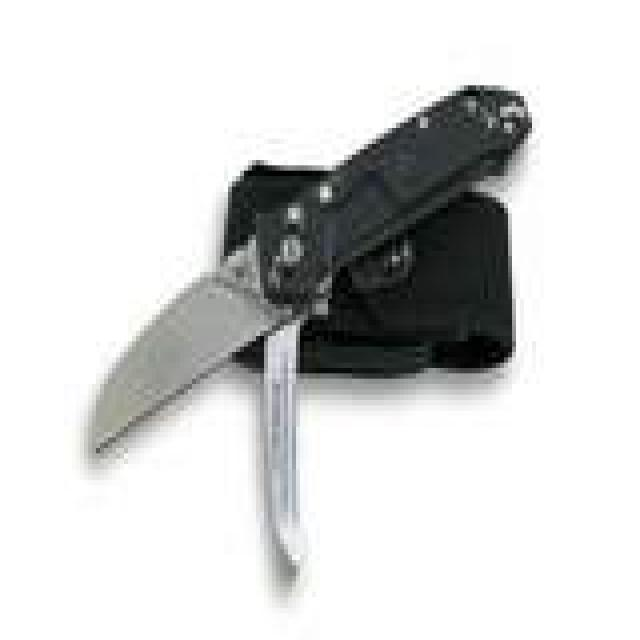Knife: (79, 78, 533, 468)
